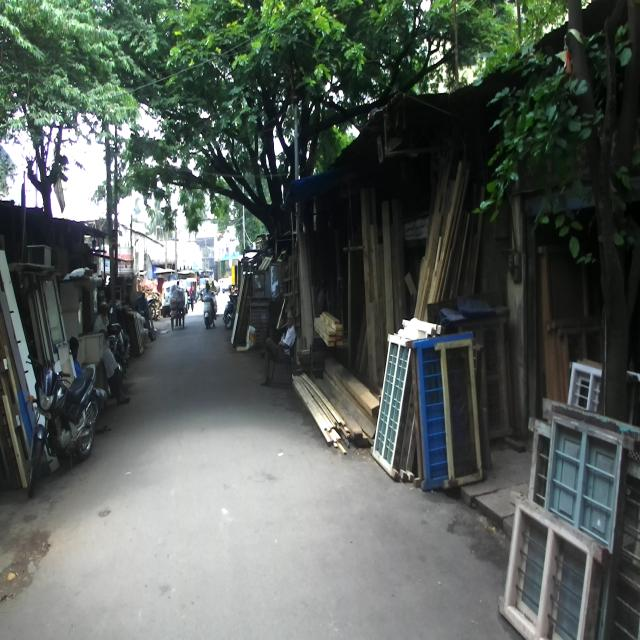motorcycle ahead at: (23, 352, 101, 489)
person ahead at: (262, 309, 296, 387)
